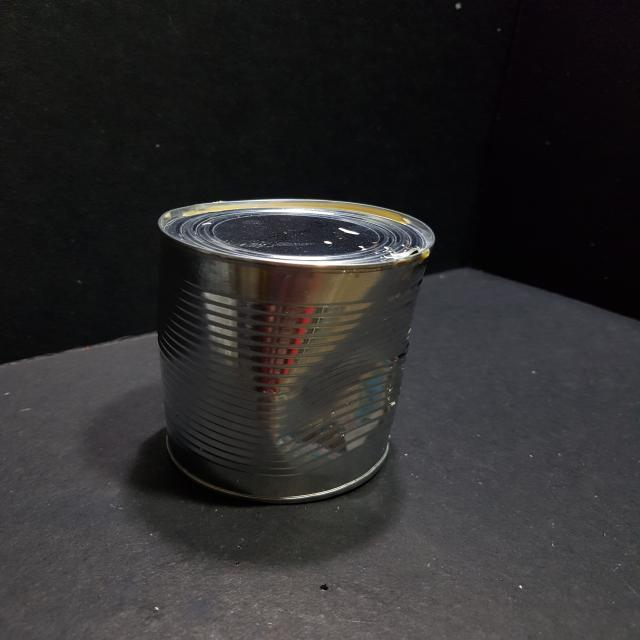metal-can: (143, 193, 442, 510)
